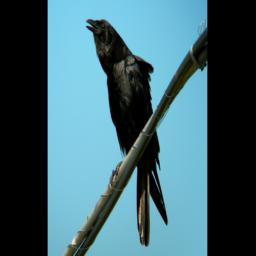Crow: (85, 16, 168, 249)
